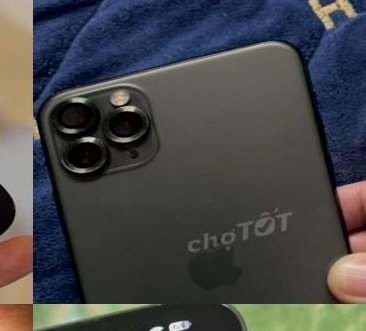scratch: (81, 125, 116, 155), (142, 111, 166, 132), (48, 94, 73, 112)
